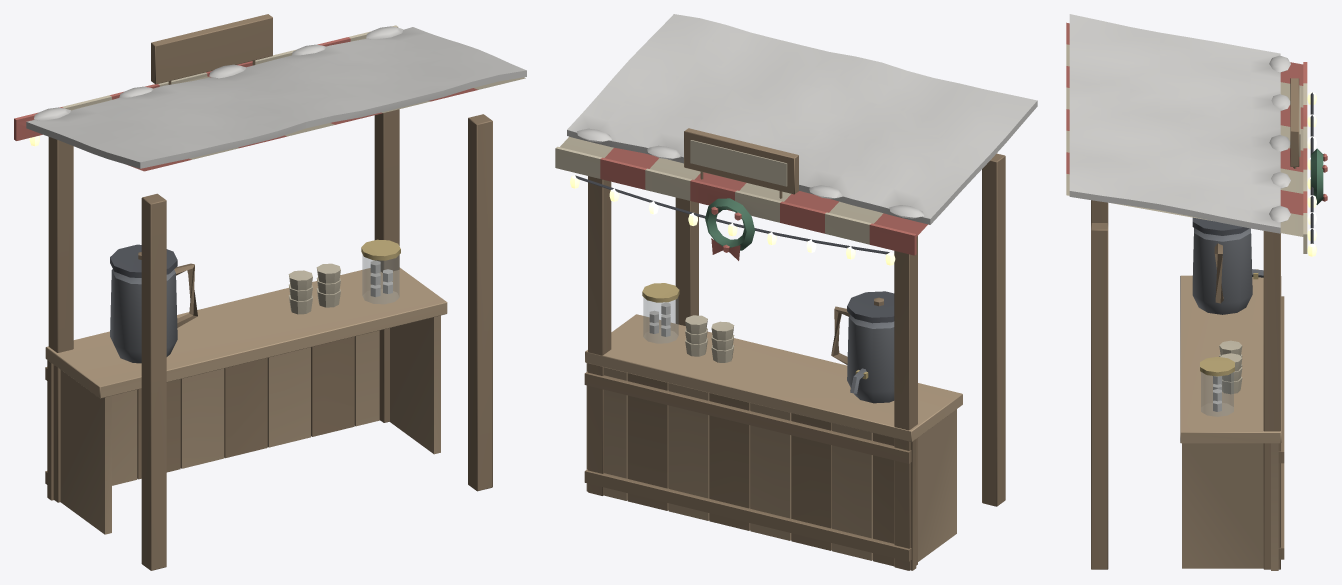
File: market_stall_cocoa.glb
The picture shows the model from 3 angles, left to right: view 1: azimuth 30°, elevation 25°; view 2: azimuth 150°, elevation 25°; view 3: azimuth 270°, elevation 25°; orthographic projection. The views are drawn at different scales.
Visible parts, largest first — view 1: market_stall_cocoa; view 2: market_stall_cocoa; view 3: market_stall_cocoa.
Boxes of the visible parts, left/top/right/bottom form: market_stall_cocoa: left=14, top=14, right=526, bottom=570; market_stall_cocoa: left=555, top=14, right=1037, bottom=570; market_stall_cocoa: left=1066, top=14, right=1327, bottom=570.
Bounding box in the file's own units: 2.49 × 2.6 × 1.57.
